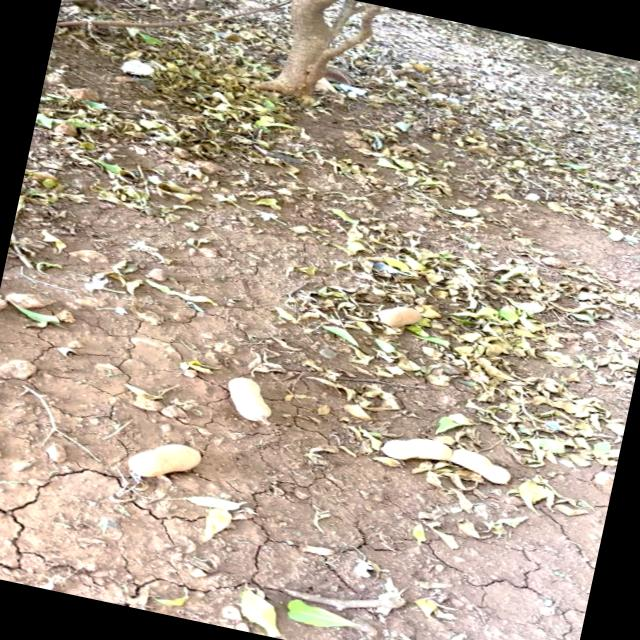tamarind: (368, 426, 518, 488), (122, 434, 202, 489), (218, 371, 290, 432), (337, 292, 429, 338)
